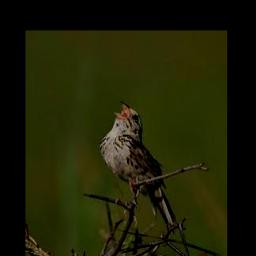Sparrow: (96, 100, 180, 238)
